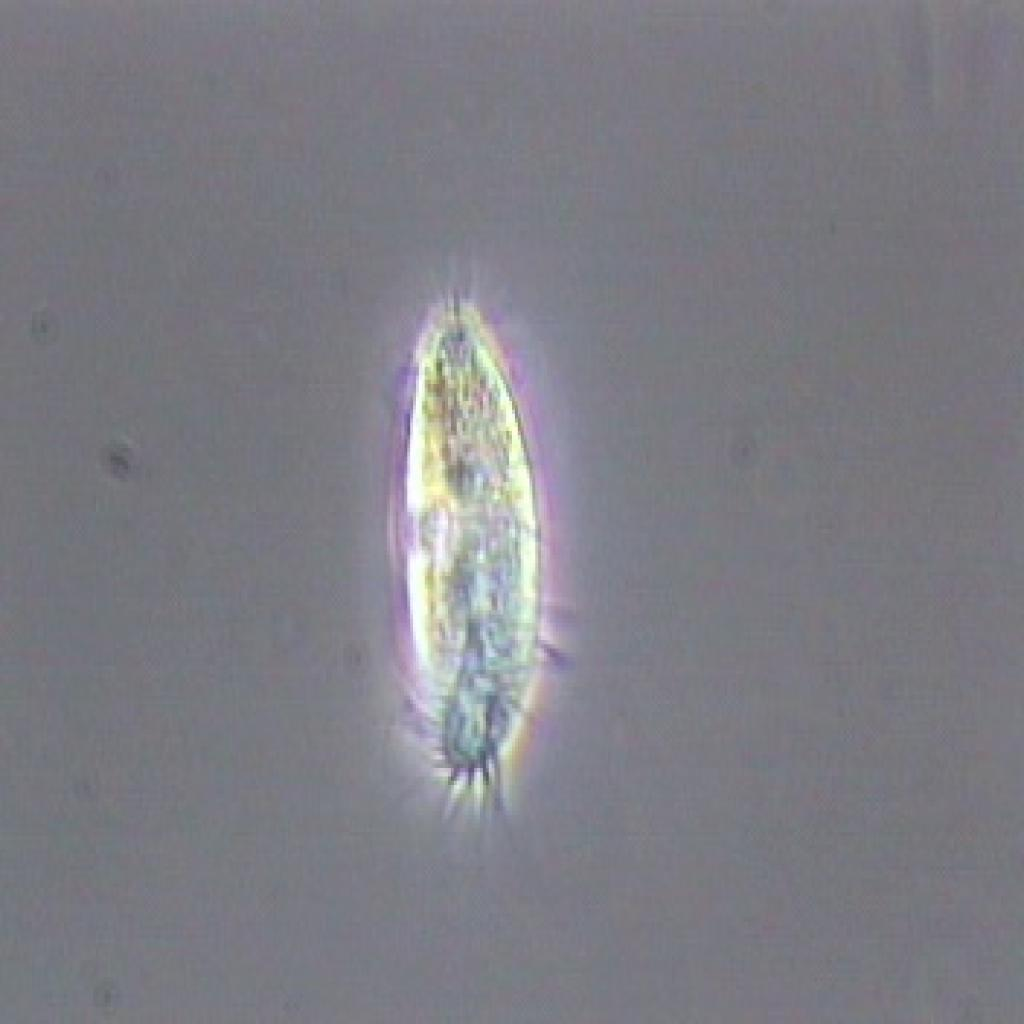Stylonychia: (339, 239, 592, 870)
